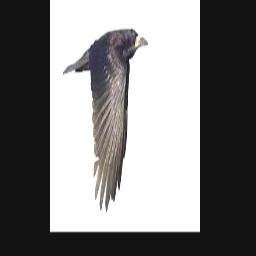Crow: (64, 28, 149, 209)
